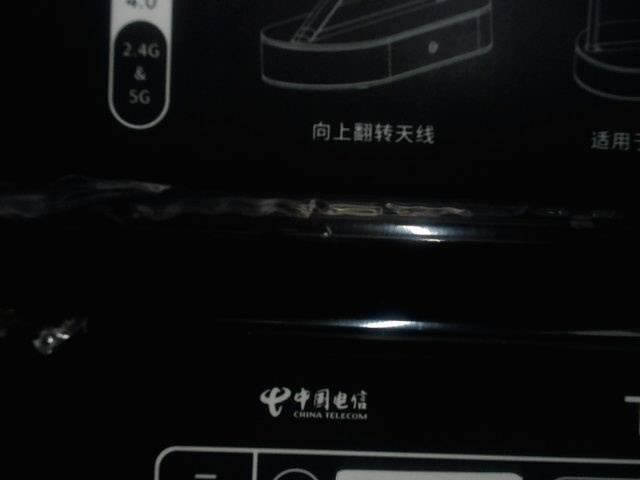AB_ChinaTelecom: (250, 375, 383, 426)
